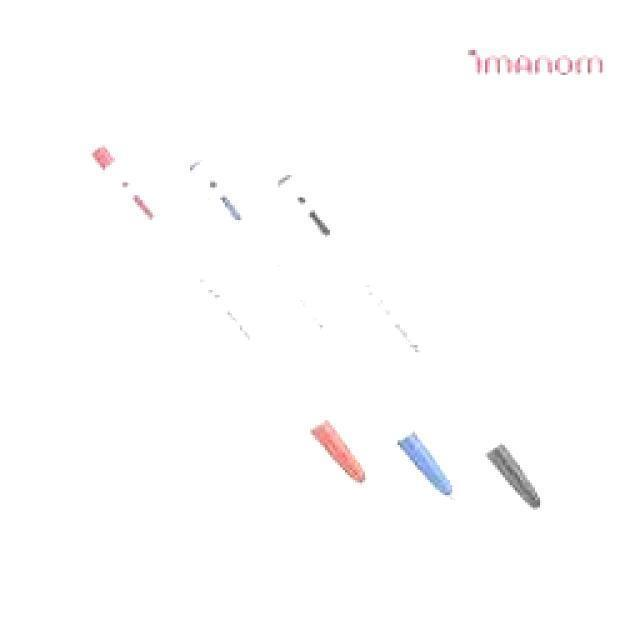pen: (275, 170, 550, 515)
